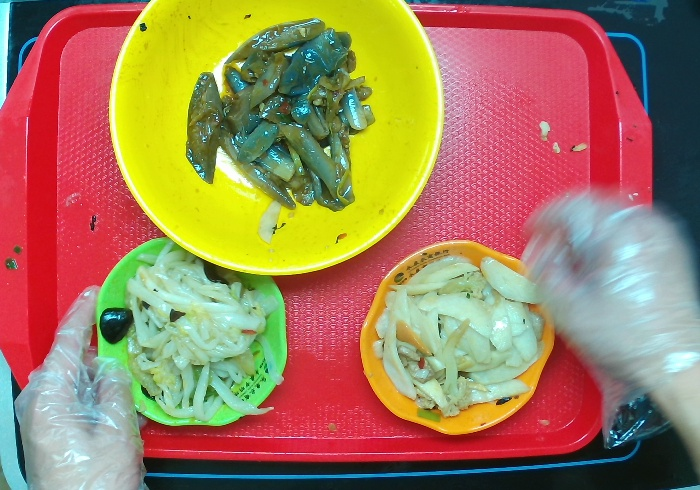YKMZ-Huang_Se_Tang_Wan: (106, 1, 441, 276)
YKMZ-Ju_Se_Ao_Bian_Wan: (359, 241, 561, 441)
YKMZ-Lv_Se_Ao_Bian_Wan: (92, 240, 292, 427)
